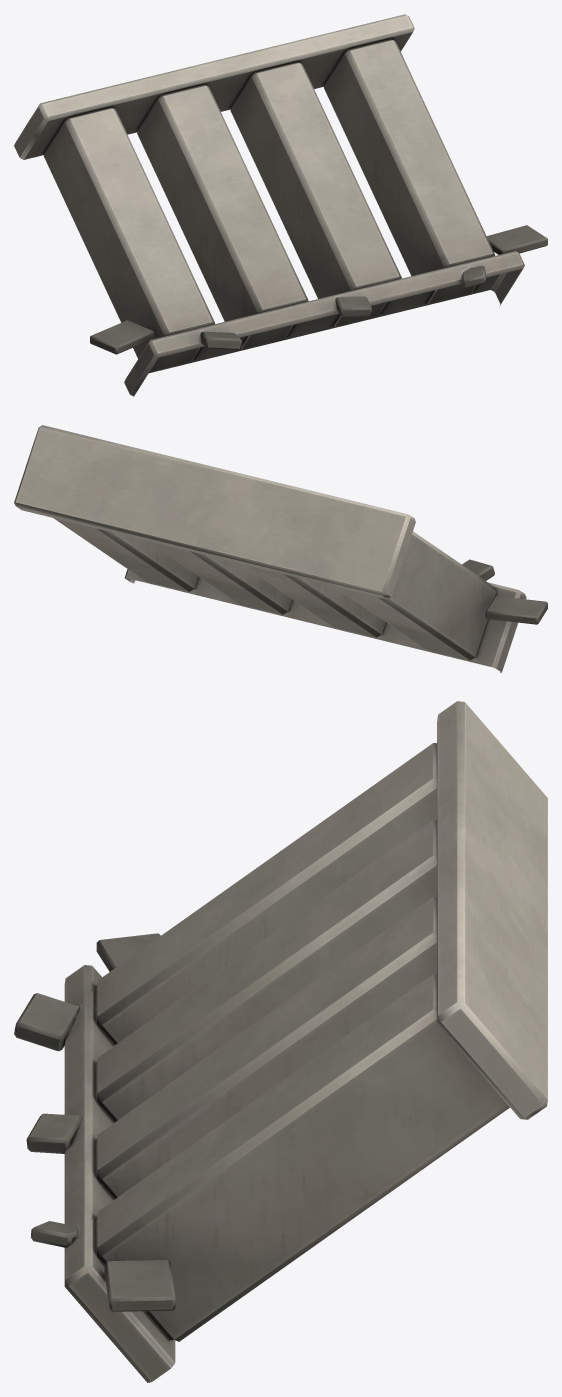
File: numeral_iiii.glb
3 renders of one model, top to bottom at view 1: azimuth 30°, elevation 25°; view 2: azimuth 150°, elevation 25°; view 3: azimuth 270°, elevation 25°, orthographic. The views are drawn at different scales.
Parts seen in each view (by area): view 1: numeral_iiii_body; view 2: numeral_iiii_body; view 3: numeral_iiii_body.
Boxes of the visible parts, x1,y1,x2,y2 form: numeral_iiii_body: (14,14,547,396); numeral_iiii_body: (14,425,547,672); numeral_iiii_body: (14,701,547,1382).
Bounding box in the file's own units: 7.86 × 3.8 × 4.83.
1 material, 1 textured.
